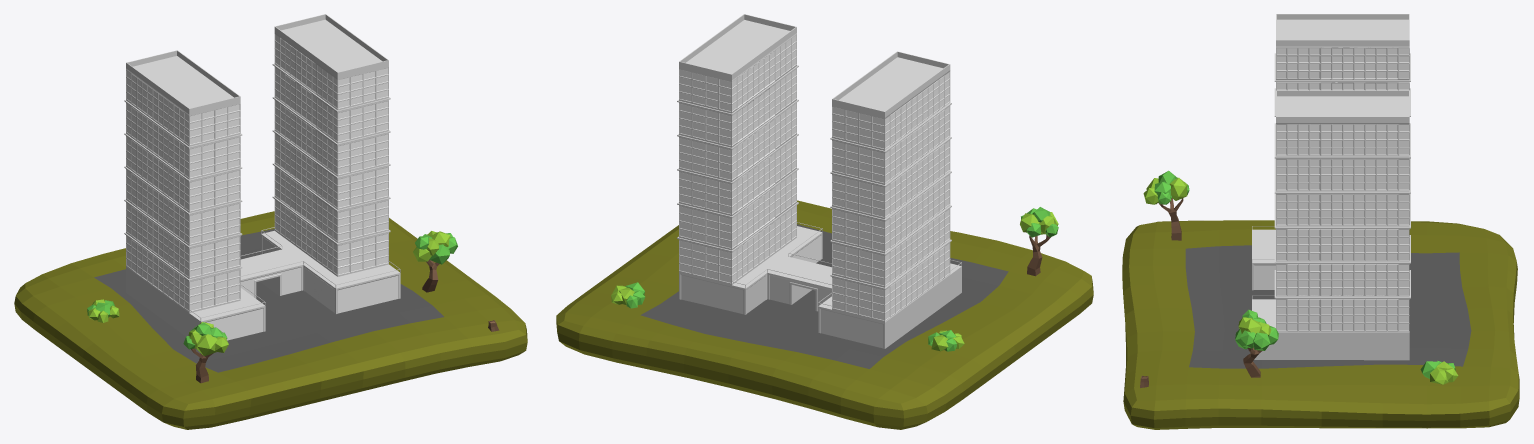
Rendered from business.glb.
3 views of the same model, side by side, from view 1: azimuth 30°, elevation 25°; view 2: azimuth 150°, elevation 25°; view 3: azimuth 270°, elevation 25° (orthographic). The views are drawn at different scales.
Visible parts, largest first — view 1: Skycrapper, Ground.003, Tree 3, Tree 2, Bush 3; view 2: Skycrapper, Ground.003, Tree 2, Bush 2, Bush 3; view 3: Ground.003, Skycrapper, Tree 3, Tree 2, Bush 2.
Boxes of the visible parts, left/top/right/bottom form: Skycrapper: left=124, top=14, right=400, bottom=340; Ground.003: left=14, top=211, right=527, bottom=429; Tree 3: left=413, top=231, right=457, bottom=292; Tree 2: left=183, top=322, right=228, bottom=383; Bush 3: left=87, top=299, right=119, bottom=322; Skycrapper: left=677, top=14, right=961, bottom=348; Ground.003: left=556, top=200, right=1093, bottom=429; Tree 2: left=1020, top=207, right=1058, bottom=276; Bush 2: left=611, top=282, right=645, bottom=308; Bush 3: left=928, top=330, right=964, bottom=351; Ground.003: left=1122, top=220, right=1519, bottom=429; Skycrapper: left=1252, top=14, right=1410, bottom=360; Tree 3: left=1235, top=309, right=1278, bottom=377; Tree 2: left=1143, top=170, right=1189, bottom=240; Bush 2: left=1420, top=360, right=1458, bottom=384.
Bounding box in the file's own units: 15.99 × 10.95 × 14.1.
